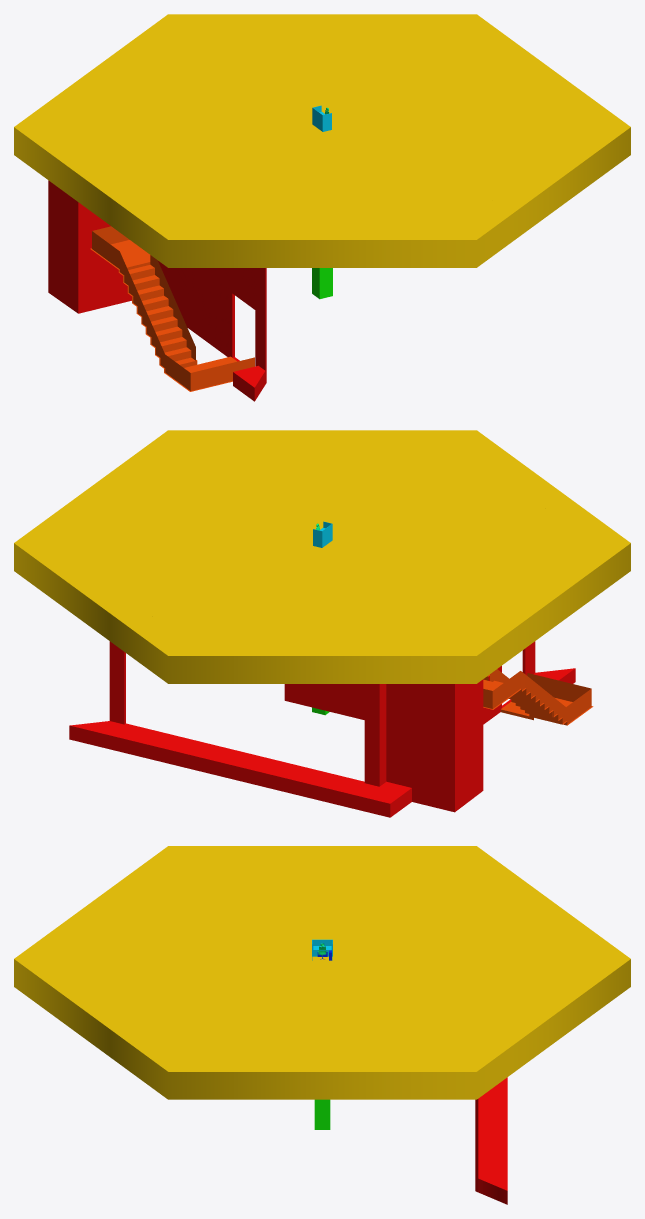
Rendered from map_for_sub.fbx.
3 renders of one model, top to bottom at view 1: azimuth 30°, elevation 25°; view 2: azimuth 150°, elevation 25°; view 3: azimuth 270°, elevation 25°, orthographic.
Parts seen in each view (by area): view 1: tile_002, floor, stair_alpha, ceiling_UV; view 2: tile_002, floor, stair_alpha; view 3: tile_002, floor, ceiling_UV.
Boxes of the visible parts, bbox=[...] form: tile_002: bbox=[14, 14, 630, 267]; floor: bbox=[48, 180, 266, 401]; stair_alpha: bbox=[90, 226, 254, 391]; ceiling_UV: bbox=[312, 268, 332, 299]; tile_002: bbox=[14, 430, 630, 683]; floor: bbox=[69, 641, 575, 817]; stair_alpha: bbox=[483, 669, 593, 725]; tile_002: bbox=[14, 846, 630, 1099]; floor: bbox=[475, 1077, 507, 1204]; ceiling_UV: bbox=[314, 1099, 330, 1129].
Bounding box in the file's own units: 3464 × 1327 × 4000.
